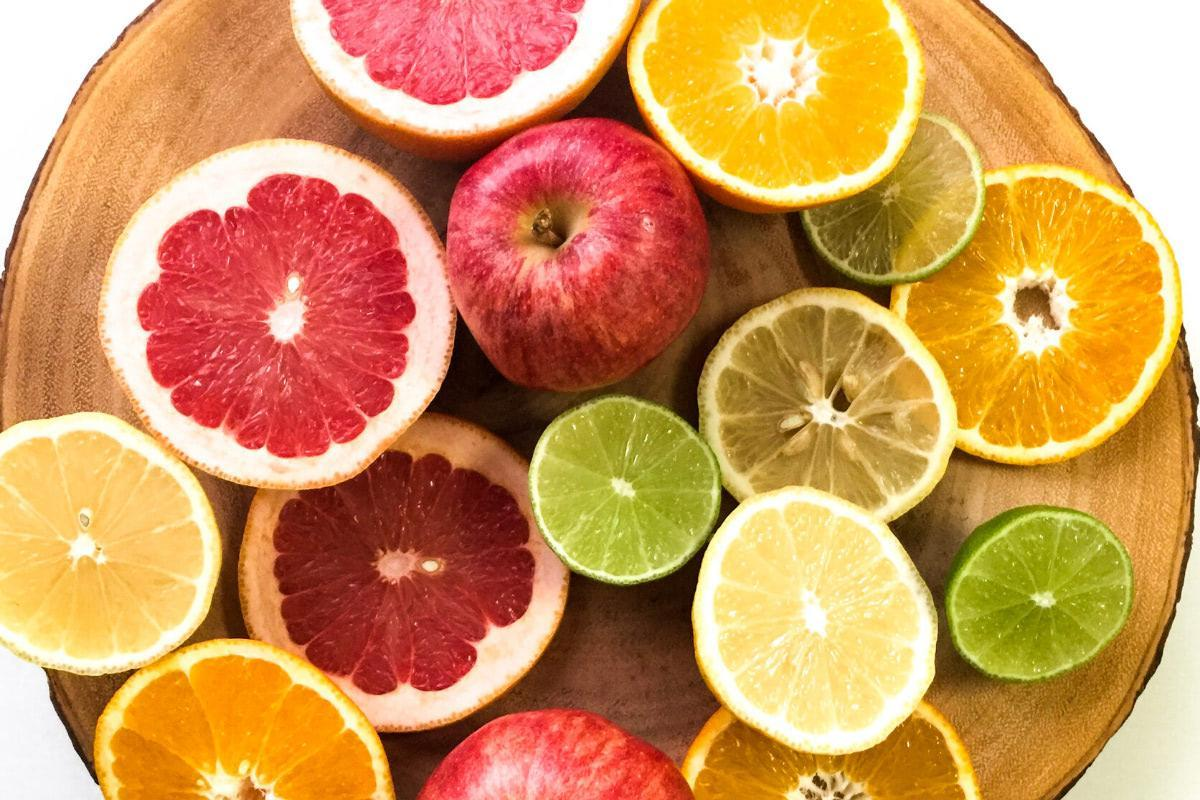apple: (444, 120, 710, 393), (413, 705, 693, 797)
